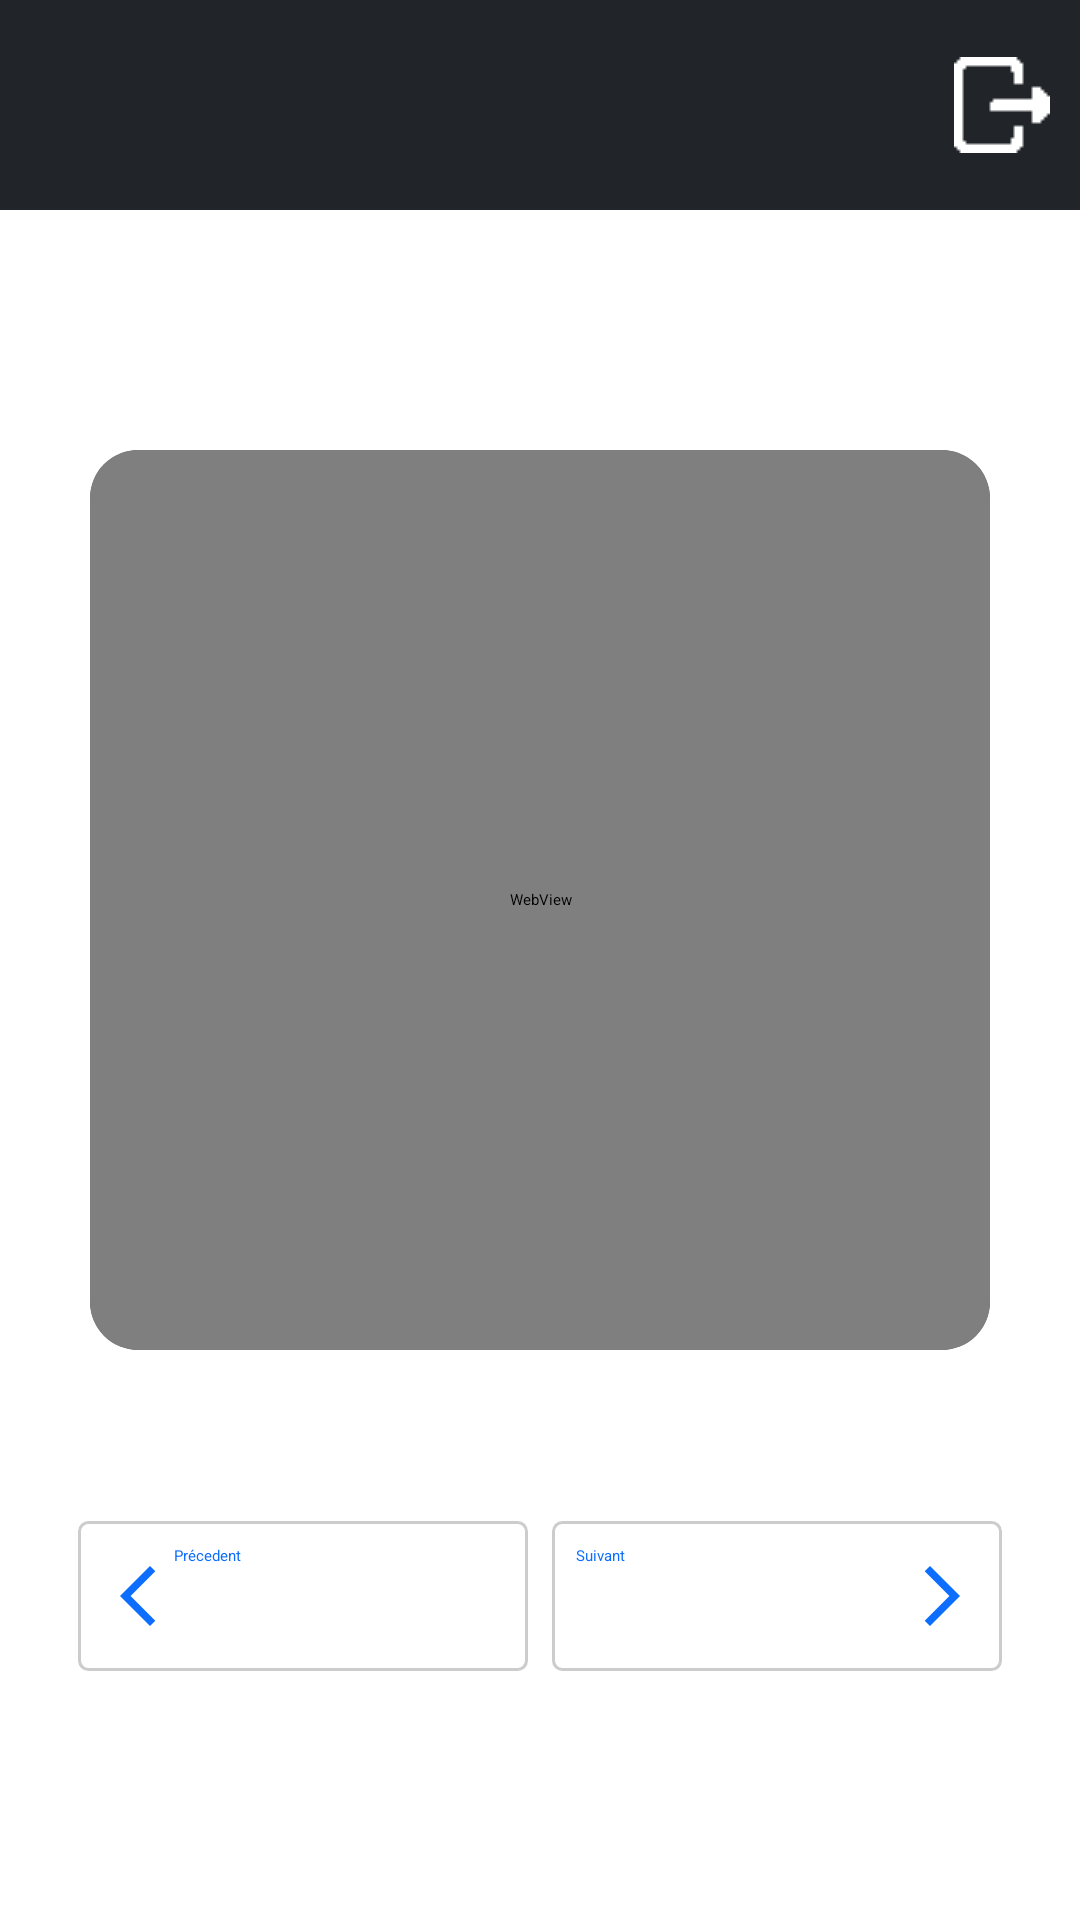

Icon bounding boxes for this 1080 × 1920 phone screenshot, format (x1, y1, x2, y2):
exit: (954, 57, 1050, 153)
